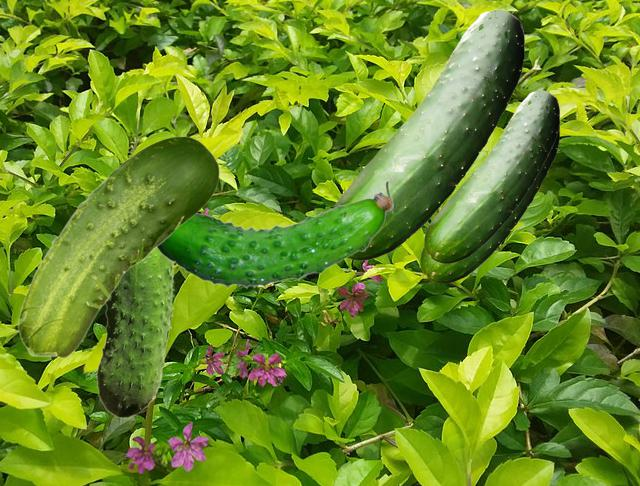cucumber: (334, 9, 523, 259), (17, 136, 218, 357), (157, 180, 392, 288), (424, 90, 558, 262), (420, 135, 558, 282), (96, 249, 174, 417)
